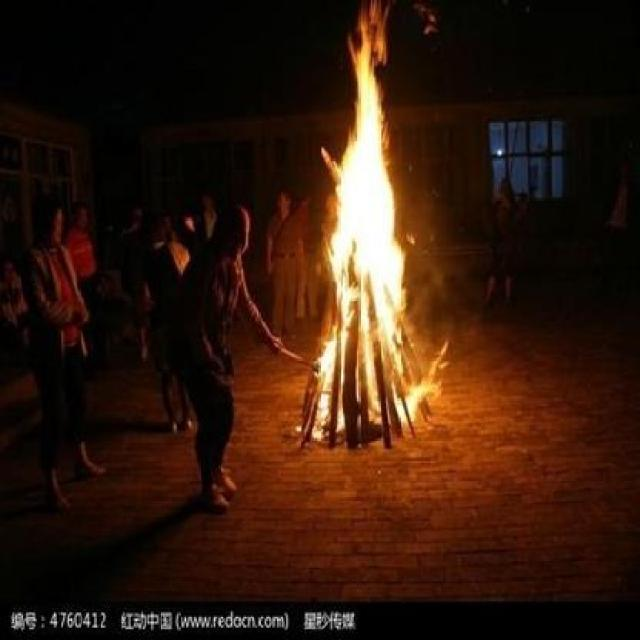Fire: (306, 2, 442, 452)
